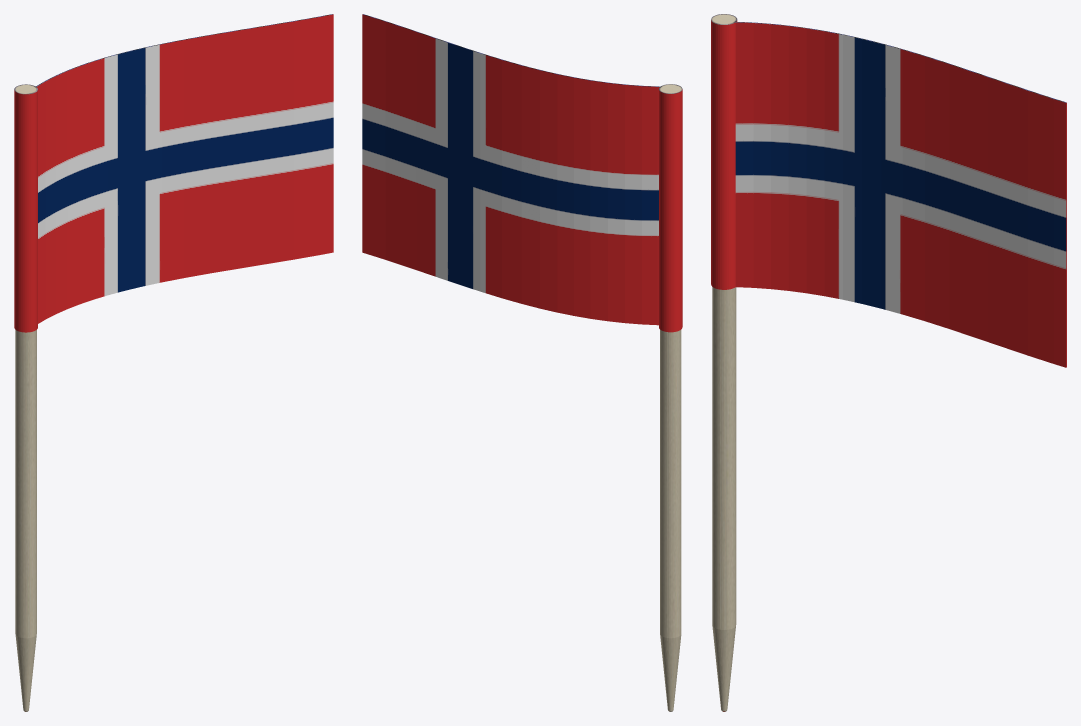
File: Noruega_flag.fbx
The picture shows the model from 3 angles, left to right: view 1: azimuth 30°, elevation 25°; view 2: azimuth 150°, elevation 25°; view 3: azimuth 330°, elevation 25°; orthographic projection. The views are drawn at different scales.
Parts seen in each view (by area): view 1: Toothpick flag; view 2: Toothpick flag; view 3: Toothpick flag.
Boxes of the visible parts, x1,y1,x2,y2 form: Toothpick flag: (14, 14, 333, 711); Toothpick flag: (362, 14, 682, 711); Toothpick flag: (711, 14, 1066, 711).
Size of the model in its own units: 3.42 by 6.4 by 0.3623.
